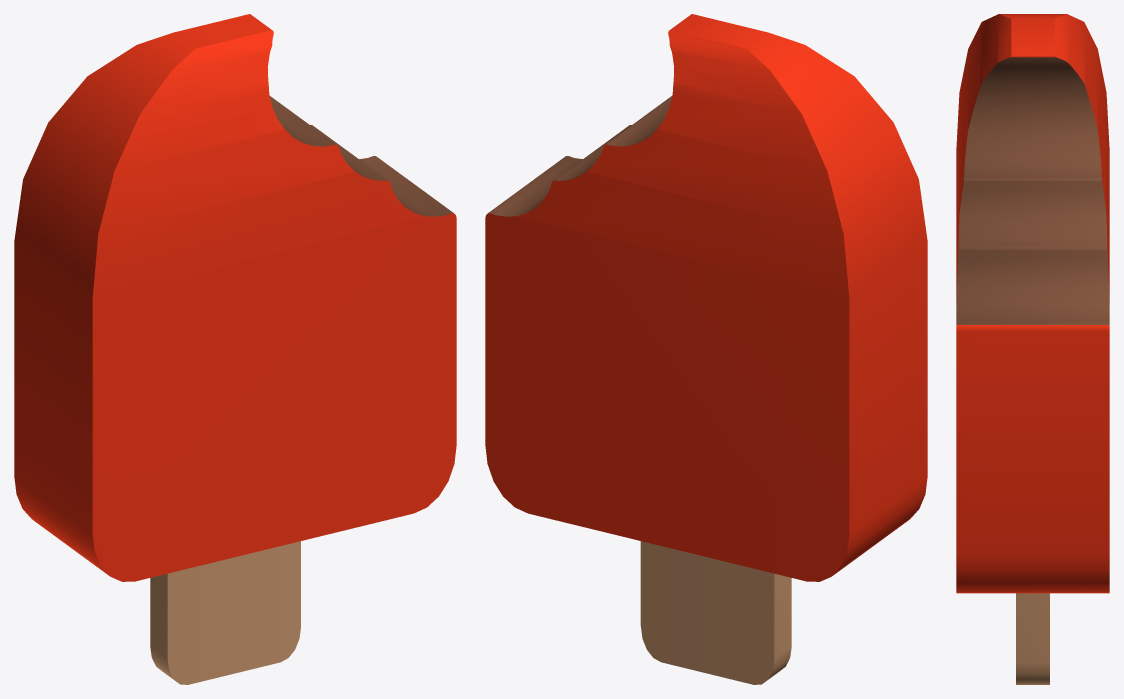
Rendered from IceCream.fbx.
3 views of the same model, side by side, from view 1: azimuth 30°, elevation 25°; view 2: azimuth 150°, elevation 25°; view 3: azimuth 270°, elevation 25° (orthographic). The views are drawn at different scales.
Parts seen in each view (by area): view 1: Body, Holder; view 2: Body, Holder; view 3: Body, Holder.
Part boxes in pixels (left/top/right/bottom): Body: left=14, top=14, right=456, bottom=581; Holder: left=150, top=541, right=300, bottom=684; Body: left=485, top=14, right=927, bottom=581; Holder: left=640, top=541, right=791, bottom=684; Body: left=956, top=14, right=1109, bottom=593; Holder: left=1016, top=593, right=1049, bottom=684.
Bounding box in the file's own units: 0.3782 × 0.6324 × 0.1409.
Materials: 1 (1 with a texture image).
